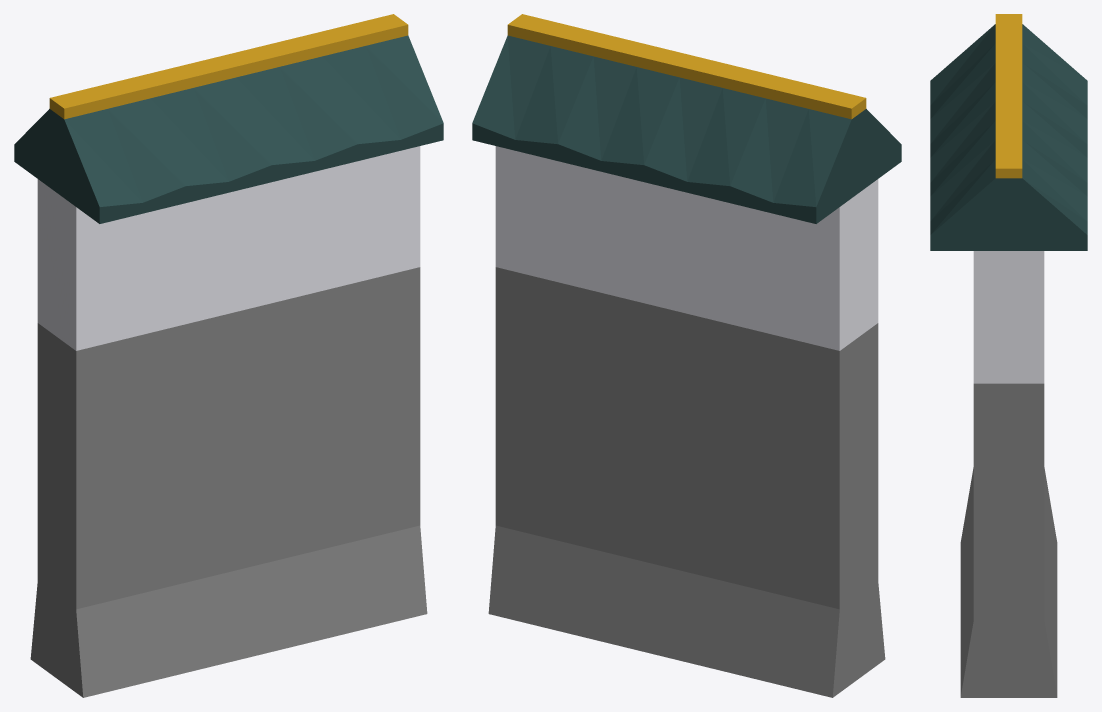
File: Asian_Prop_Building_Fence_Wall_High_Small_04.FBX
The picture shows the model from 3 angles, left to right: view 1: azimuth 30°, elevation 25°; view 2: azimuth 150°, elevation 25°; view 3: azimuth 270°, elevation 25°; orthographic projection. The views are drawn at different scales.
Visible parts, largest first — view 1: Asian_Prop_Building_Fence_Wall_High_Small_04; view 2: Asian_Prop_Building_Fence_Wall_High_Small_04; view 3: Asian_Prop_Building_Fence_Wall_High_Small_04.
Boxes of the visible parts, x1,y1,x2,y2 form: Asian_Prop_Building_Fence_Wall_High_Small_04: [14, 14, 443, 697]; Asian_Prop_Building_Fence_Wall_High_Small_04: [472, 14, 901, 697]; Asian_Prop_Building_Fence_Wall_High_Small_04: [930, 14, 1087, 697].
Bounding box in the file's own units: 2584 × 4128 × 1112.
